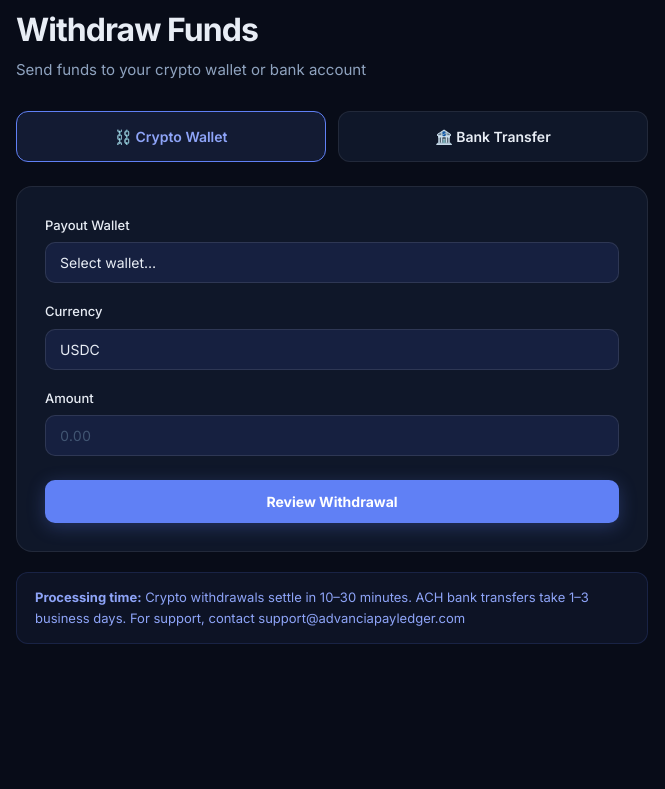
Scenario: Withdraw › confirm step › goes back to form on edit click
Select "Main ETH — 0xabcdef…cdef12 (USDC) ★ Primary" in the dropdown below "Payout Wallet" at (332, 263), box [45,242,619,283]
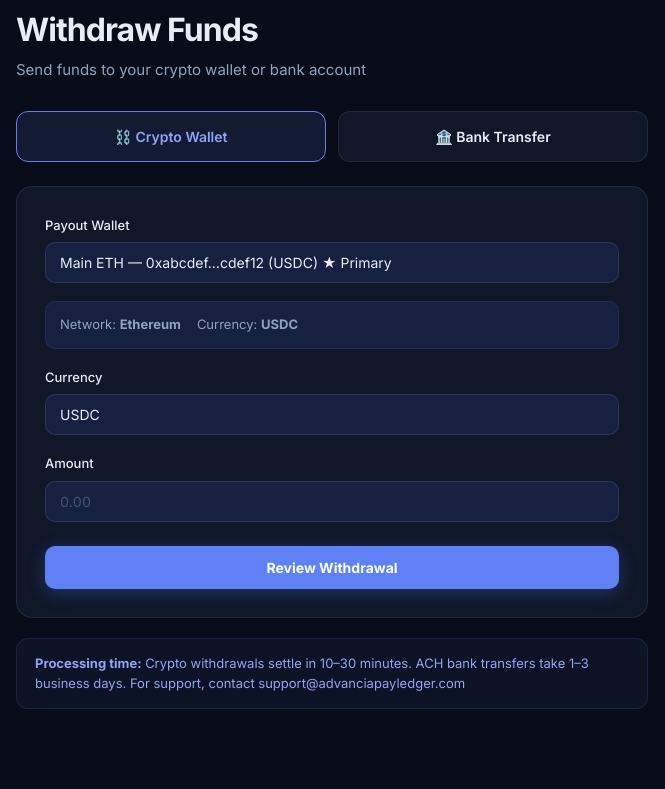
Type "50" into the number field with placeholder "0.00" at (332, 501), box [45,481,619,522]
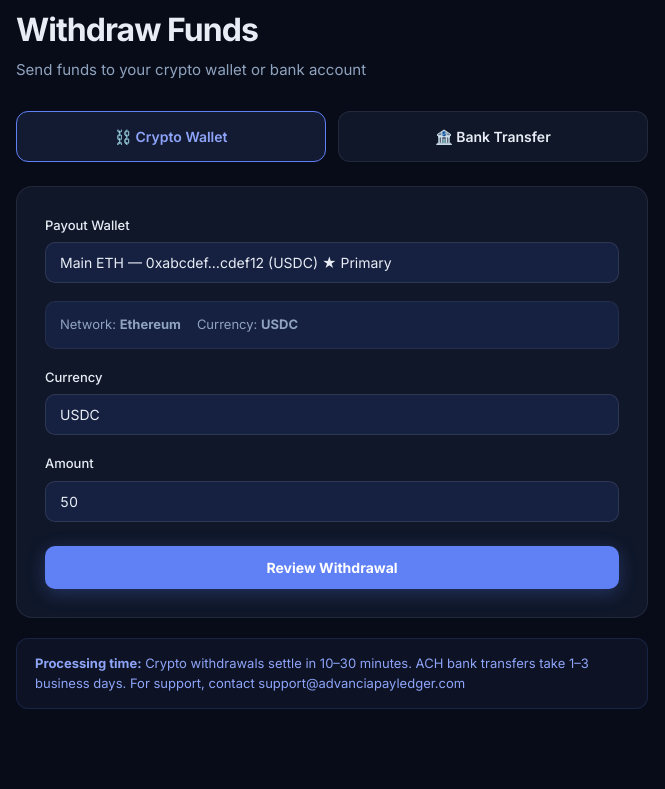
Submit the form, box [16,186,648,618]
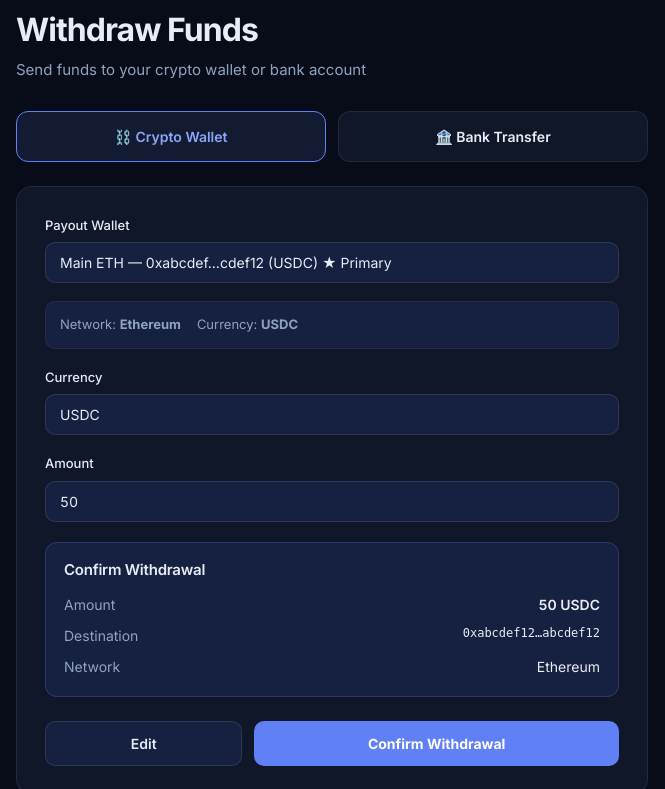
Expected: the button "Edit" is shown
Click the button "Edit" at (144, 743), box [45,721,242,766]
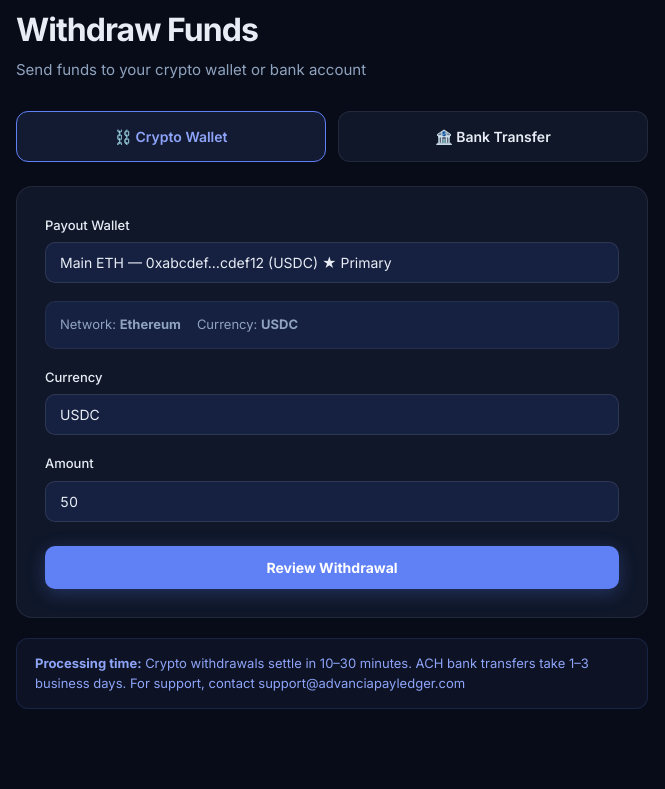
Expected: the button "Review Withdrawal" is shown, [45,546,619,589]
